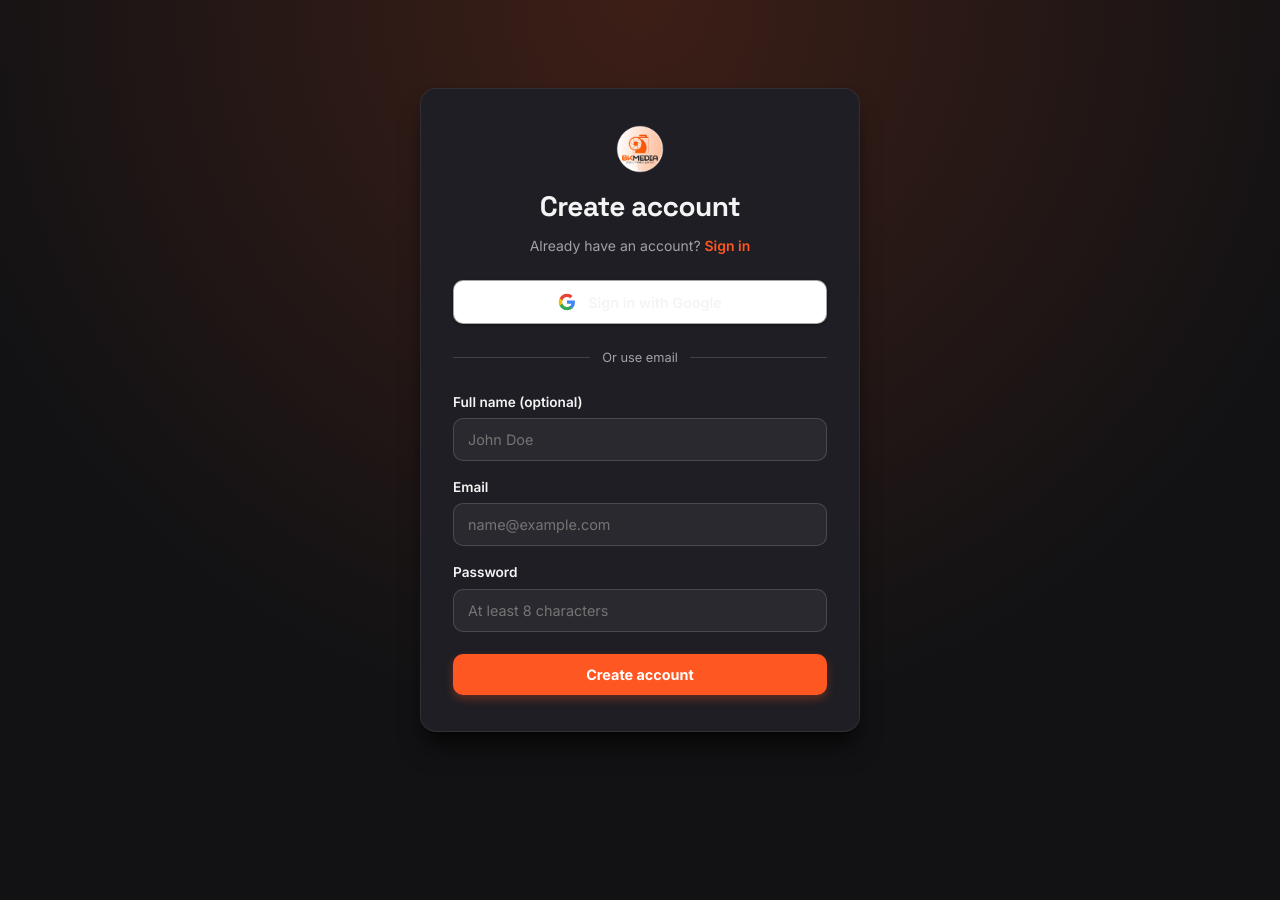
Test: Auth UI Components & Pages › RegisterPage › shows inline error with role="alert" when API registration fails
Type "existing@example.com" into the field labelled "Email" at (640, 525), box x1=453 y1=503 x2=827 y2=546
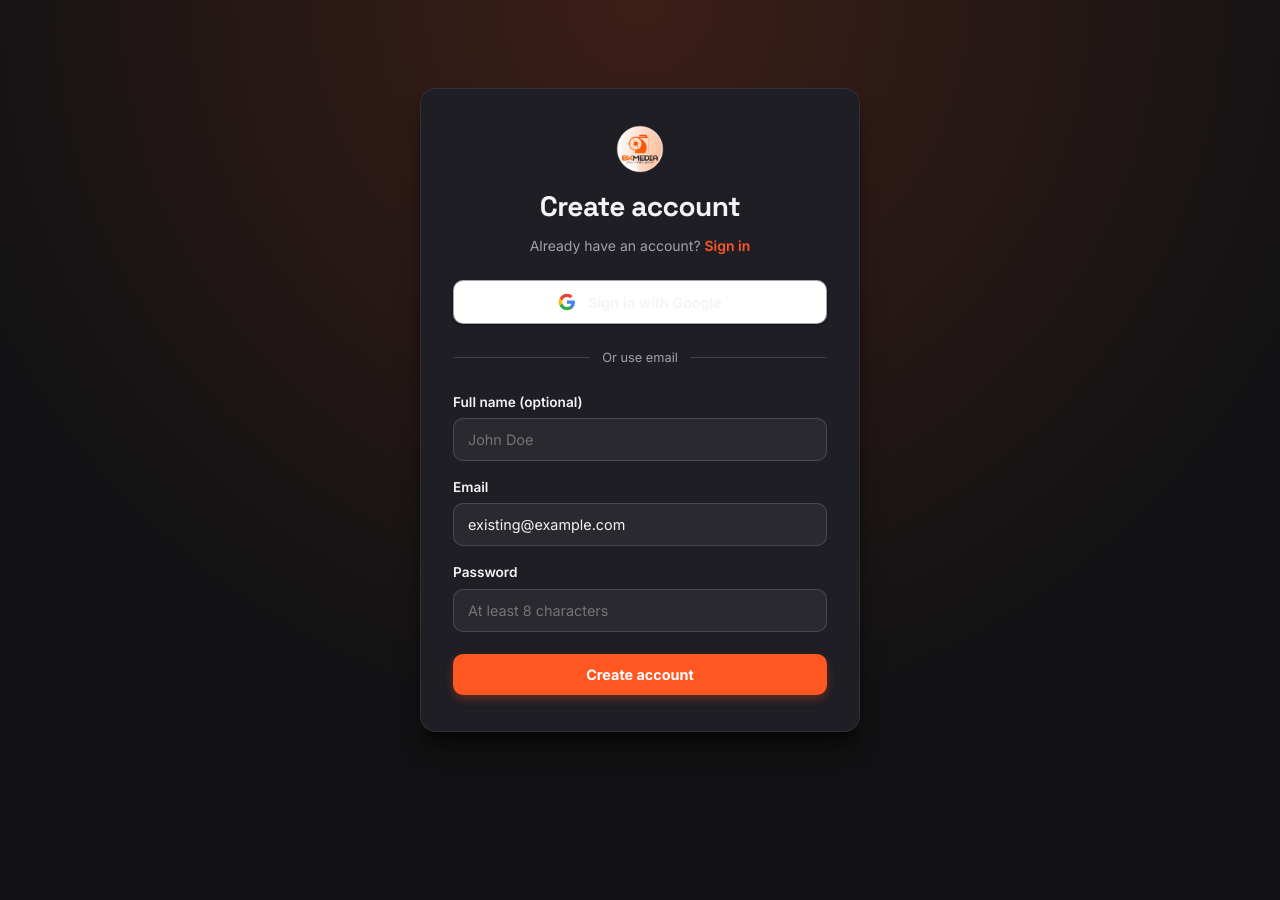
Type "password123" into the password field labelled "Password" at (640, 610), box x1=453 y1=589 x2=827 y2=632
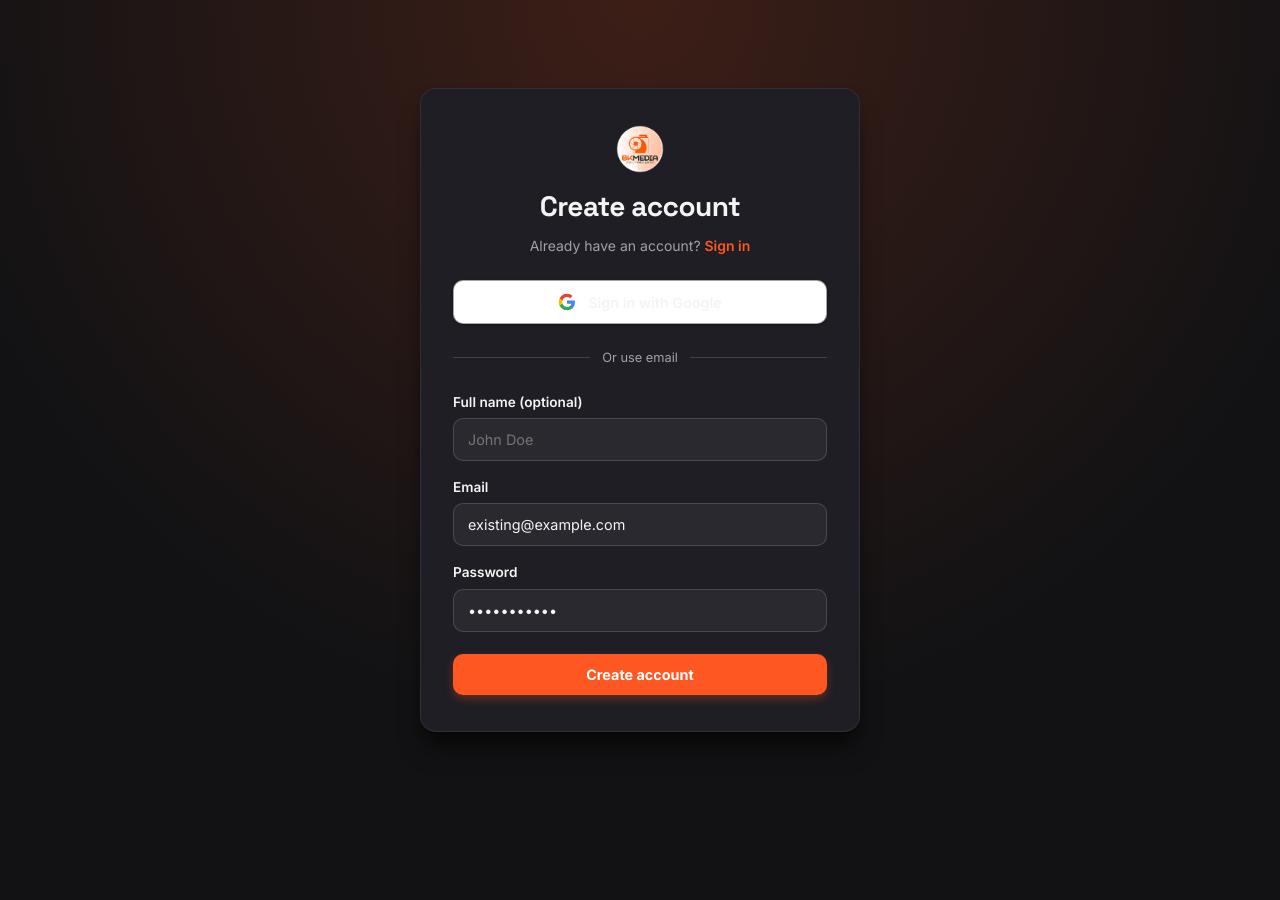
Click the button "Create account" at (640, 674), box x1=453 y1=654 x2=827 y2=695
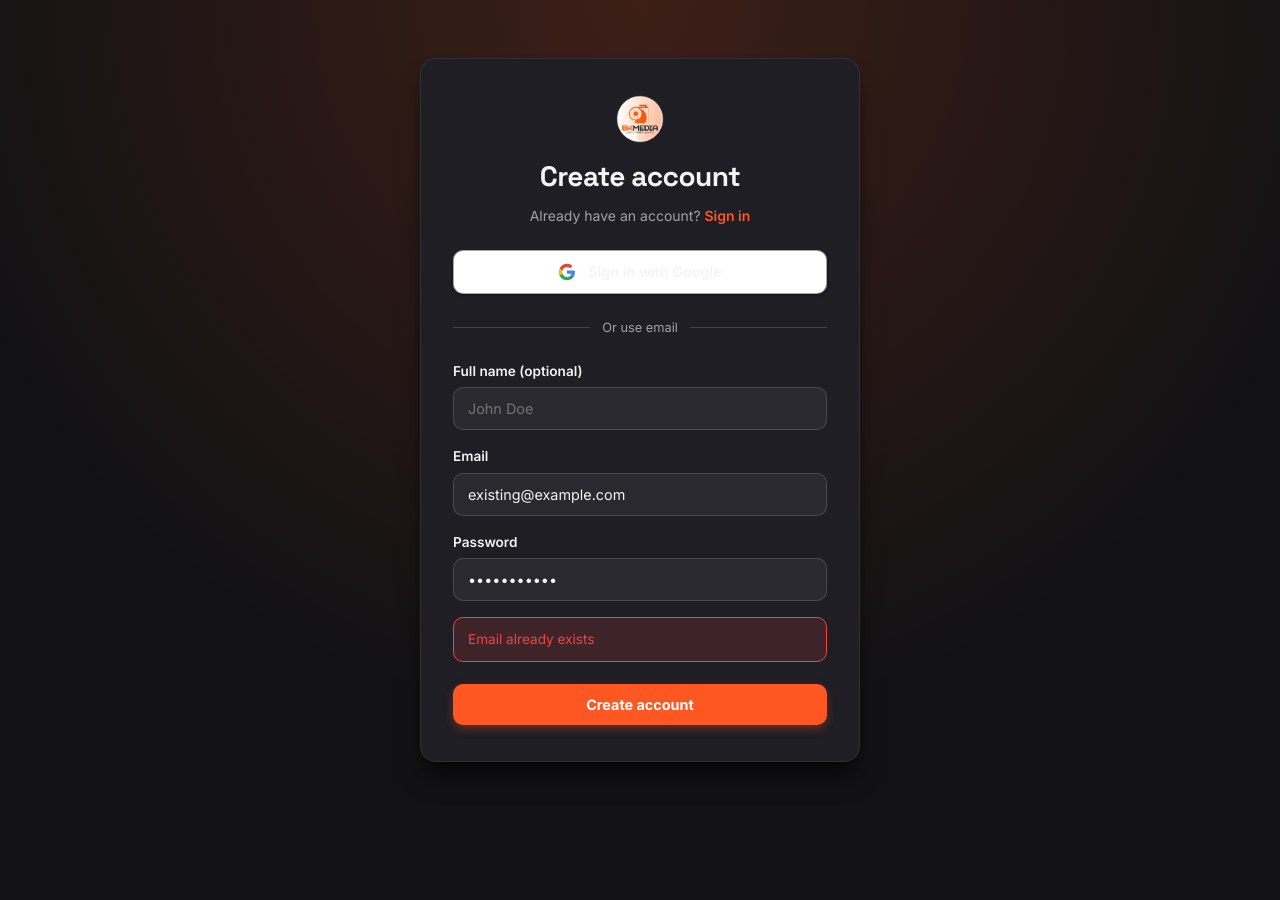
Now the message reads "Email already exists", box x1=468 y1=631 x2=594 y2=647
